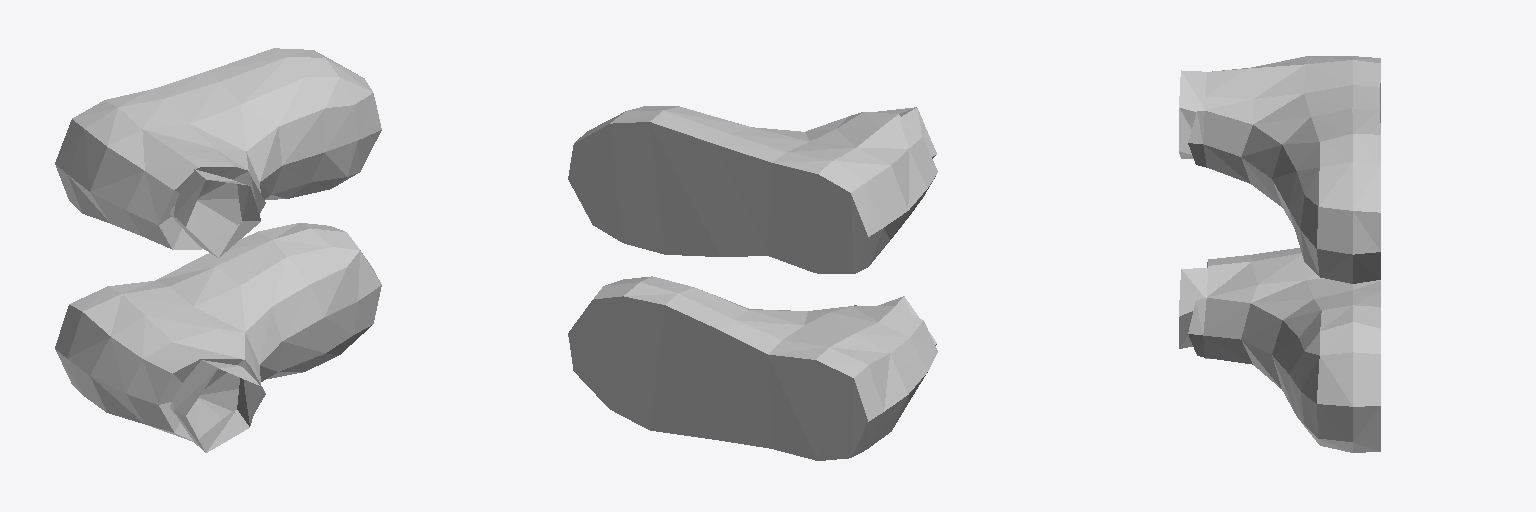
The picture shows the model from 3 angles: view 1: azimuth 30°, elevation 25°; view 2: azimuth 150°, elevation 25°; view 3: azimuth 270°, elevation 25°; orthographic projection.
Parts seen in each view (by area): view 1: rg_foot_001_re; view 2: rg_foot_001_re; view 3: rg_foot_001_re.
Boxes of the visible parts, <box> form: rg_foot_001_re: <box>55,48,381,452</box>; rg_foot_001_re: <box>568,106,937,460</box>; rg_foot_001_re: <box>1179,56,1380,452</box>.
Size of the model in its own units: 40.43 by 39.23 by 23.16.